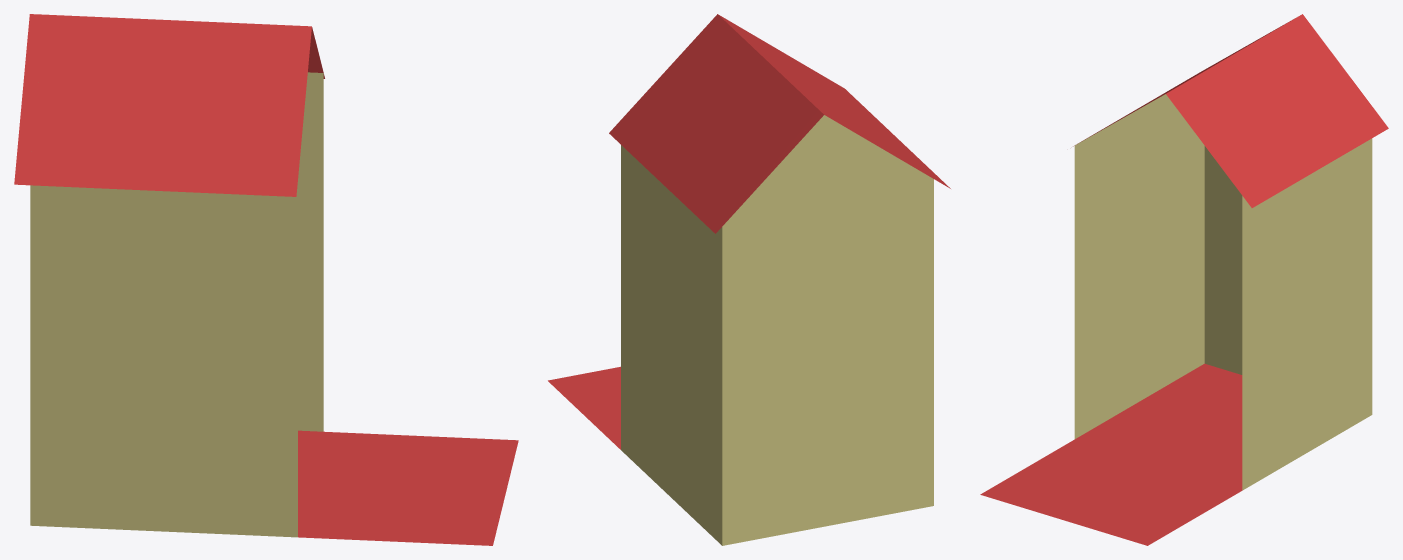
3 renders of one model, left to right at view 1: azimuth 30°, elevation 25°; view 2: azimuth 150°, elevation 25°; view 3: azimuth 270°, elevation 25°, orthographic. The views are drawn at different scales.
Size of the model in its own units: 9.31 by 8.5 by 8.56.
